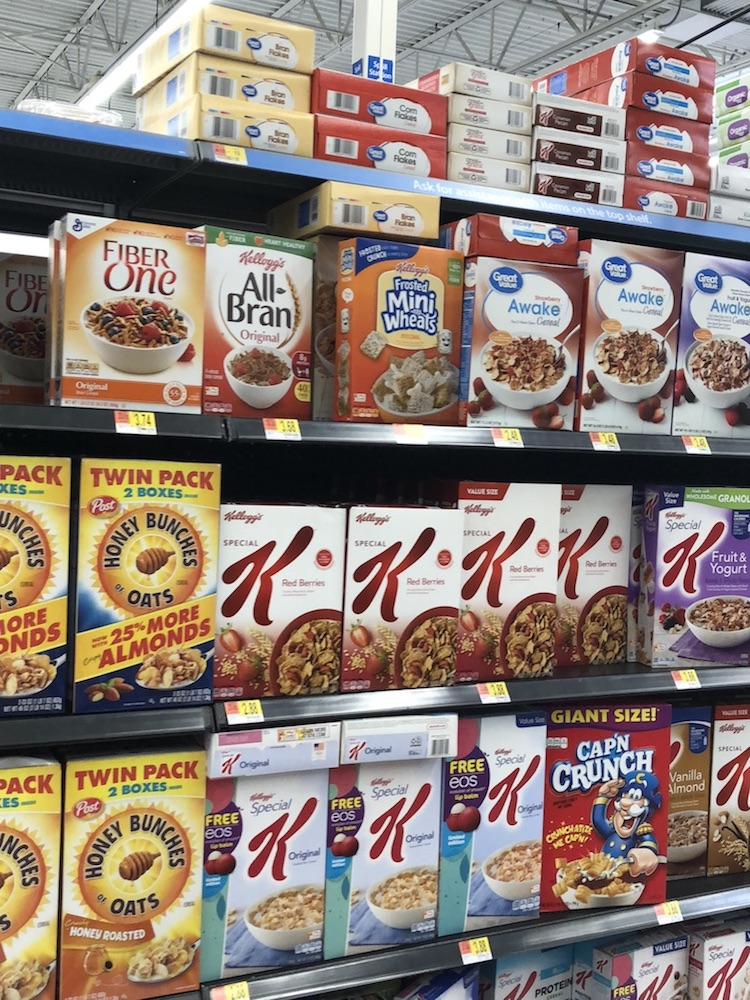Frosted Mini Original -9295869: (338, 241, 467, 419)
